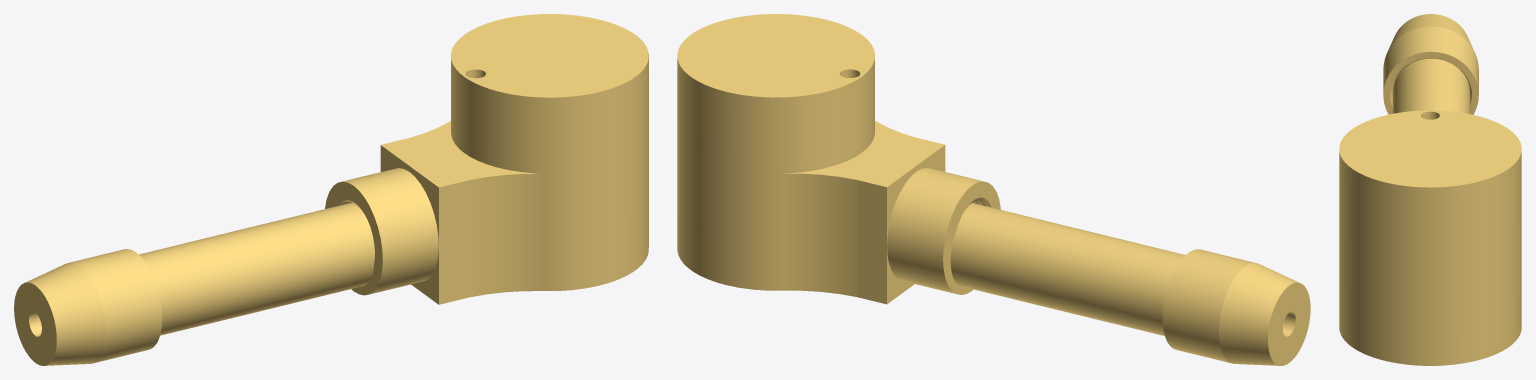
File: BrocktonMK2.gltf
The picture shows the model from 3 angles, left to right: view 1: azimuth 30°, elevation 25°; view 2: azimuth 150°, elevation 25°; view 3: azimuth 270°, elevation 25°; orthographic projection. The views are drawn at different scales.
Parts seen in each view (by area): view 1: Head, Body, Lid, Mouthpiece; view 2: Head, Body, Lid, Mouthpiece; view 3: Head, Lid, Mouthpiece, Body.
Part boxes in pixels (bbox=[...]): Head: bbox=[325, 72, 648, 304]; Body: bbox=[139, 202, 374, 335]; Lid: bbox=[451, 14, 648, 115]; Mouthpiece: bbox=[14, 249, 162, 365]; Head: bbox=[677, 76, 1000, 304]; Body: bbox=[950, 203, 1185, 335]; Lid: bbox=[677, 14, 874, 114]; Mouthpiece: bbox=[1162, 249, 1310, 365]; Head: bbox=[1339, 168, 1521, 365]; Lid: bbox=[1339, 110, 1521, 203]; Mouthpiece: bbox=[1383, 14, 1478, 114]; Body: bbox=[1392, 58, 1470, 113].
Bounding box in the file's own units: 0.7228 × 0.2229 × 0.2067.
